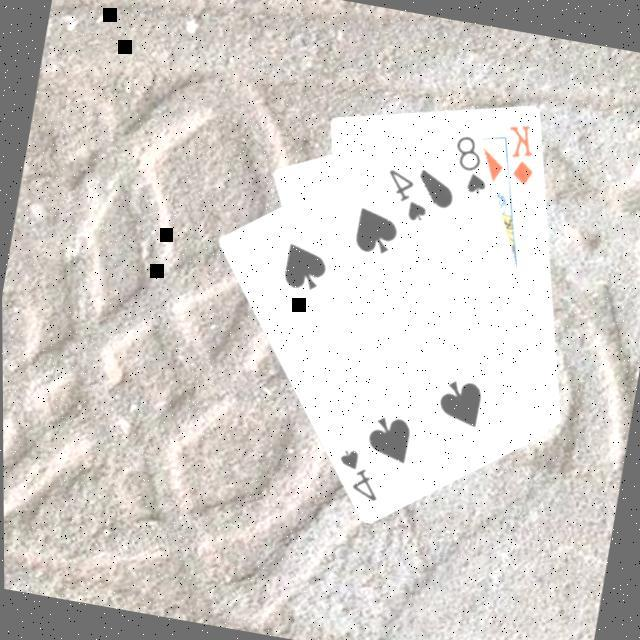4S: (378, 164, 438, 227), (329, 444, 389, 506)
8S: (445, 130, 499, 200)
KD: (498, 118, 546, 191)
